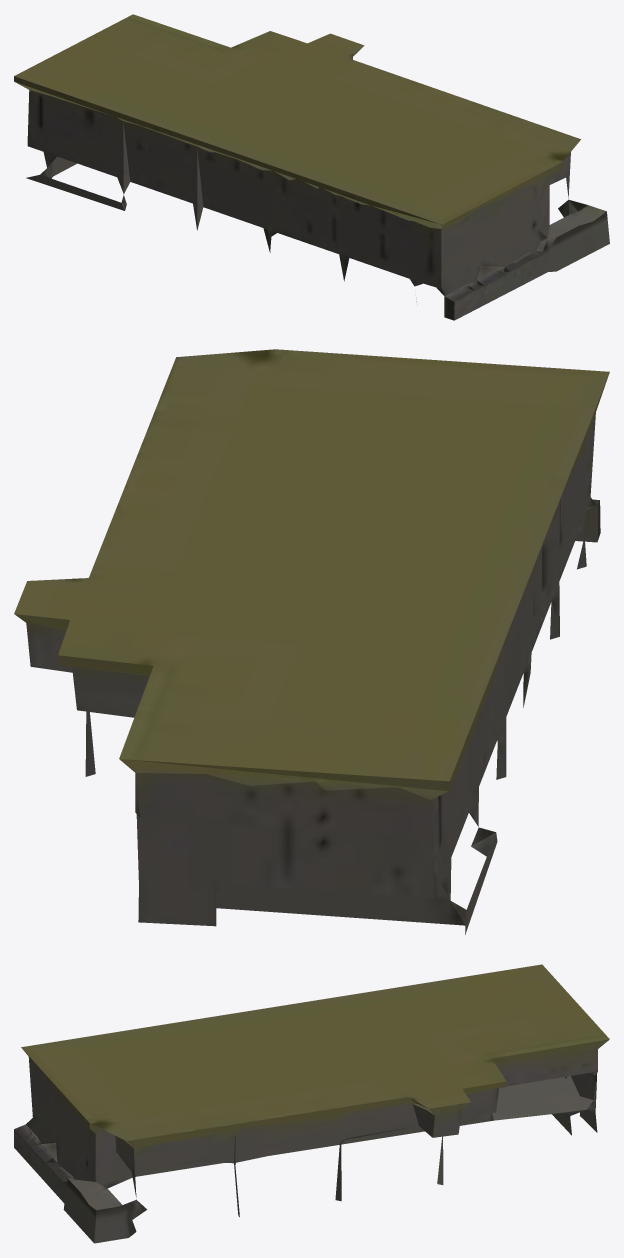
Rendered from t_-5_1.coat.glb.
3 views of the same model, one above another, from view 1: azimuth 30°, elevation 25°; view 2: azimuth 150°, elevation 25°; view 3: azimuth 270°, elevation 25° (orthographic). The views are drawn at different scales.
Parts seen in each view (by area): view 1: far; view 2: far; view 3: far.
Boxes of the visible parts, left/top/right/bottom form: far: left=14, top=14, right=609, bottom=320; far: left=14, top=349, right=609, bottom=934; far: left=14, top=964, right=609, bottom=1243.
Bounding box in the file's own units: 48.66 × 11.91 × 66.95.
Materials: 1 (1 with a texture image).
